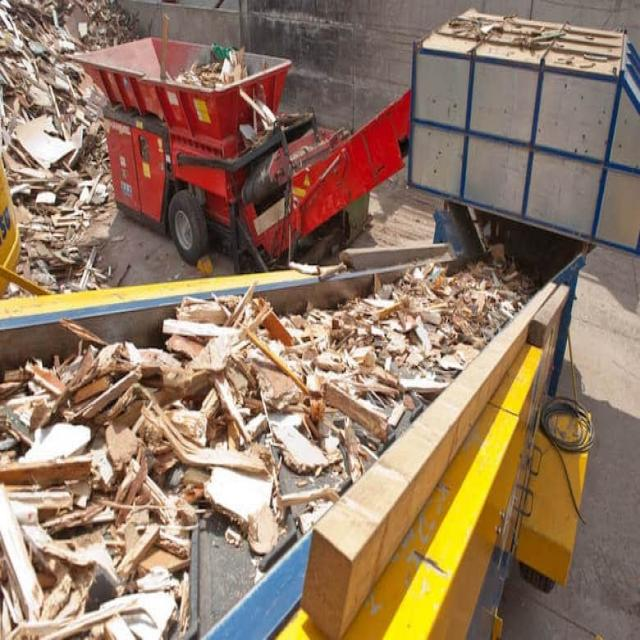green waste: (0, 248, 529, 634), (2, 8, 139, 267)
